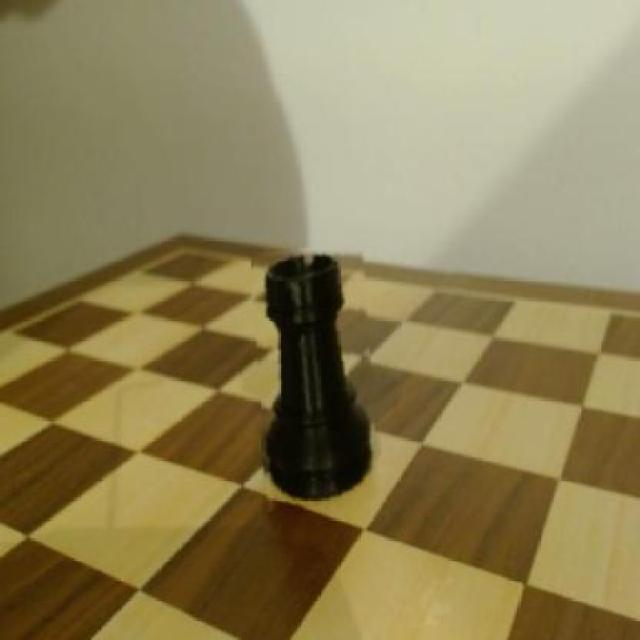black-queen: (255, 246, 377, 511)
